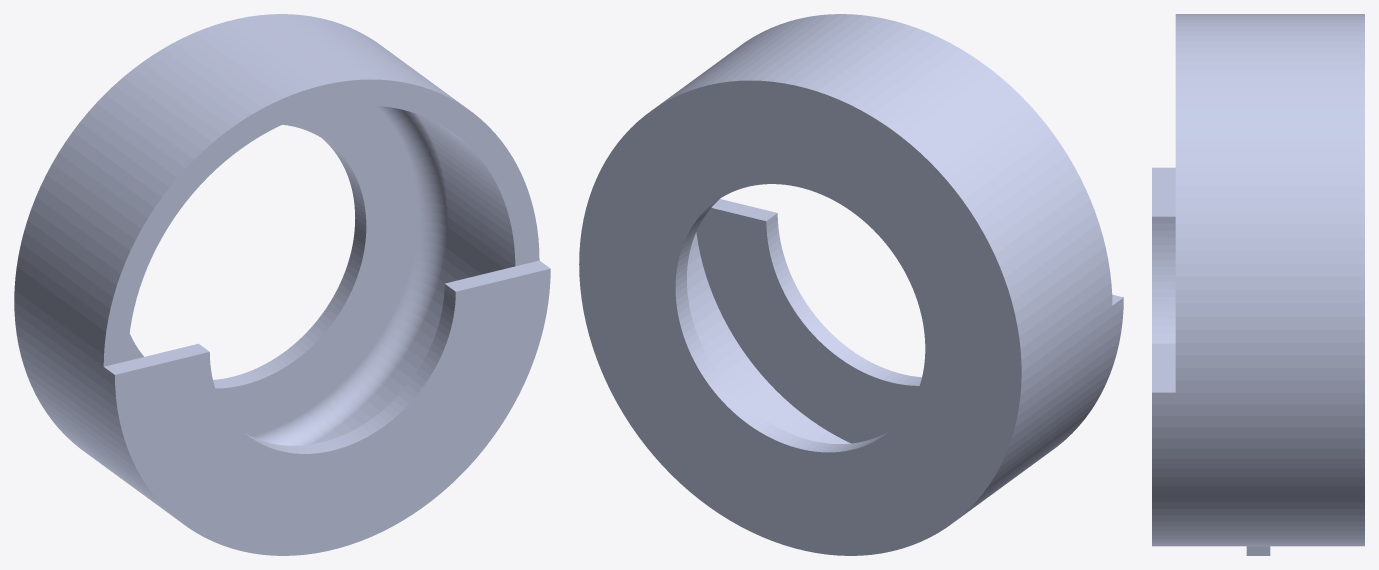
Rendered from capsulaXS.obj.
3 renders of one model, left to right at view 1: azimuth 30°, elevation 25°; view 2: azimuth 150°, elevation 25°; view 3: azimuth 270°, elevation 25°, orthographic. The views are drawn at different scales.
Parts seen in each view (by area): view 1: obj1; view 2: obj1; view 3: obj1.
Part boxes in pixels (x1=…): obj1: x1=14, y1=14, x2=550, y2=555; obj1: x1=579, y1=14, x2=1123, y2=555; obj1: x1=1152, y1=14, x2=1364, y2=555.
Bounding box in the file's own units: 45 × 47.99 × 18.
